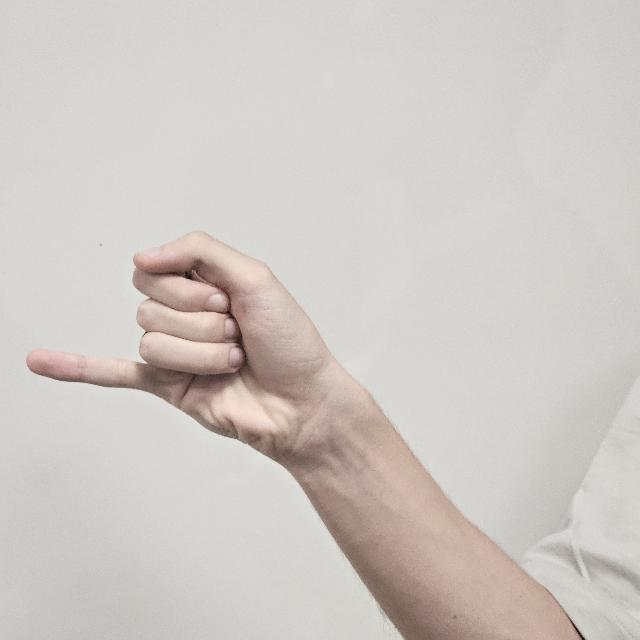Esquerda: (22, 212, 354, 478)
